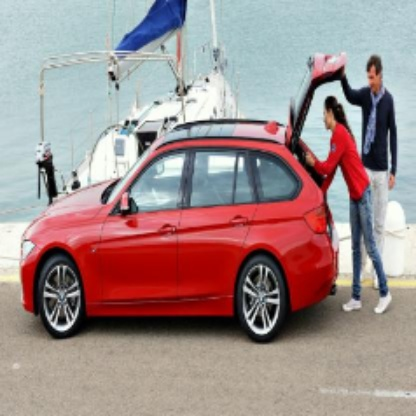Vehicle: (20, 49, 350, 346)
